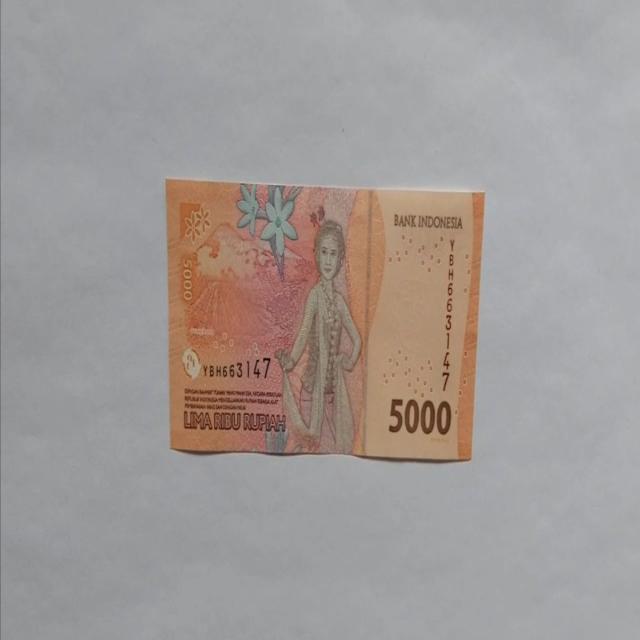lima ribu rupiah: (165, 176, 485, 462), (274, 218, 362, 454)
